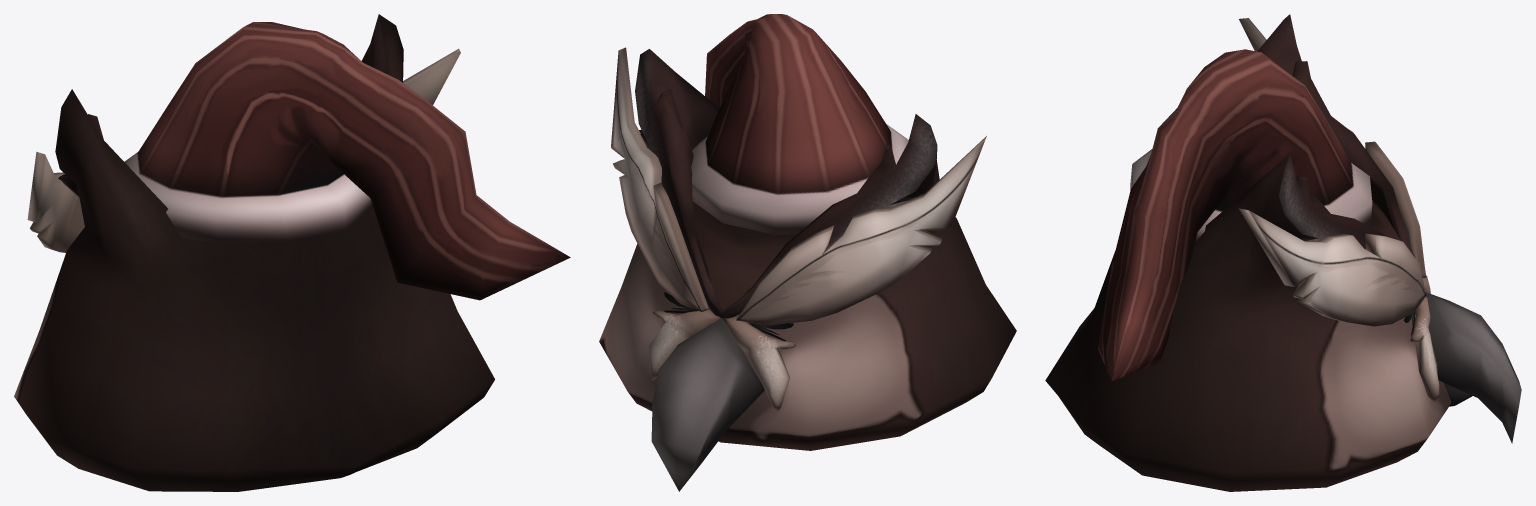
File: featherbedder_head.glb
3 renders of one model, left to right at view 1: azimuth 30°, elevation 25°; view 2: azimuth 150°, elevation 25°; view 3: azimuth 270°, elevation 25°, orthographic. The views are drawn at different scales.
Visible parts, largest first — view 1: Object; view 2: Object; view 3: Object.
Boxes of the visible parts, <box> form: Object: <box>14,14,570,491</box>; Object: <box>599,14,1016,491</box>; Object: <box>1045,14,1521,491</box>.
Size of the model in its own units: 1.47 by 1.28 by 1.41.
Materials: 1 (1 with a texture image).
